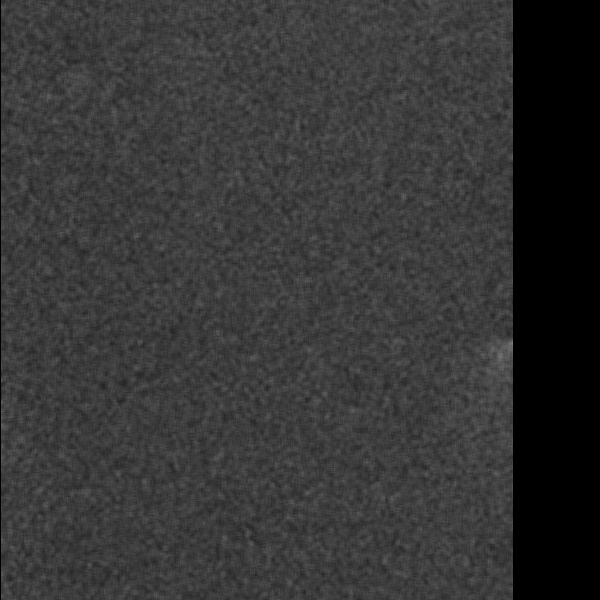spark: (312, 195, 346, 336), (320, 500, 367, 594), (321, 362, 341, 480), (290, 237, 317, 308), (116, 532, 149, 581), (467, 333, 493, 395), (106, 122, 128, 158), (498, 406, 517, 443)
